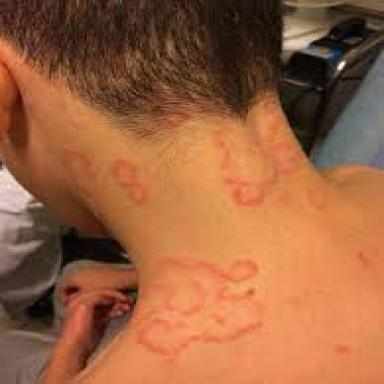Tinea-Corporis: (138, 261, 259, 355), (221, 171, 276, 206), (63, 146, 96, 196), (113, 159, 146, 203), (271, 142, 302, 174)
